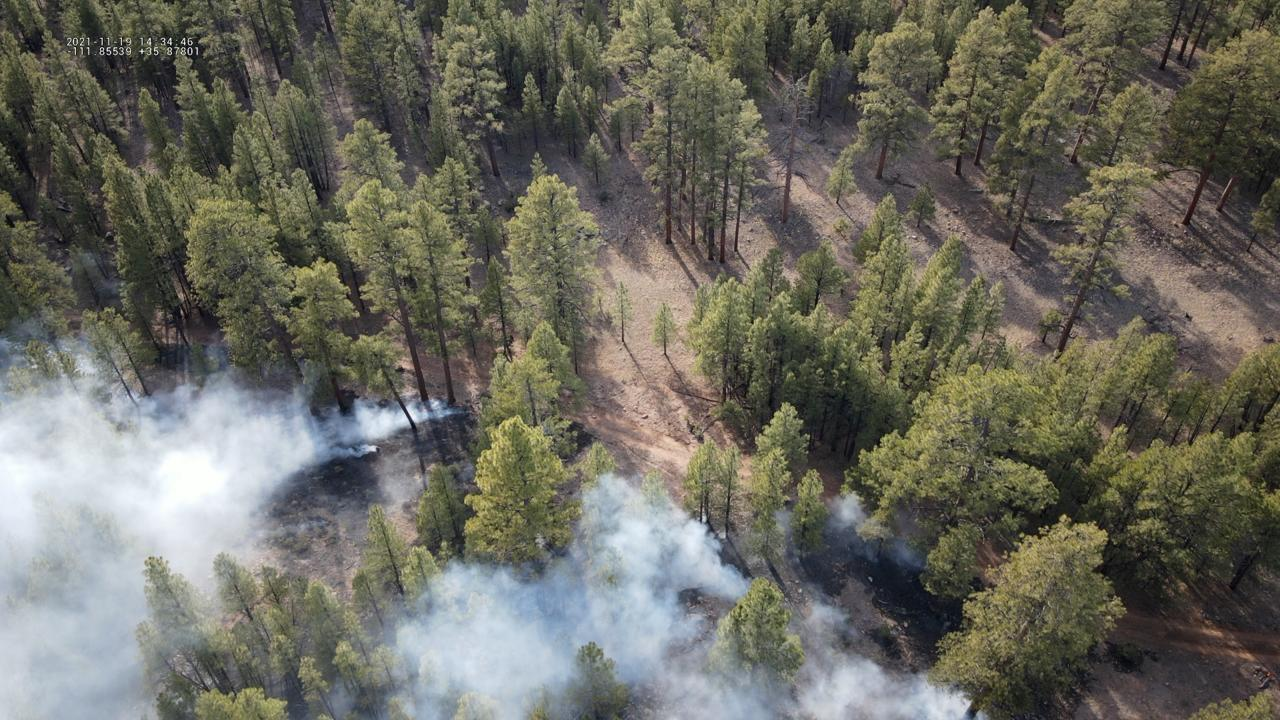smoke: (0, 321, 470, 720), (324, 471, 992, 720), (824, 494, 924, 569), (771, 508, 800, 556)
